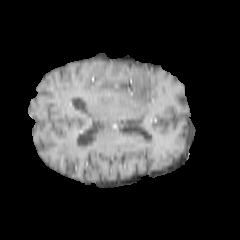glioma: (93, 70, 160, 111)
